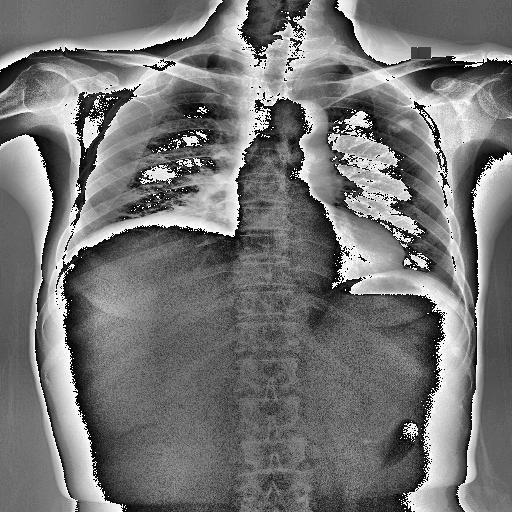0- Aortic enlargement: (287, 98, 328, 144)
13- Pulmonary fibrosis: (388, 119, 416, 134)
2- Calcification: (390, 118, 413, 132)
8- Nodule-Mass: (388, 119, 416, 134), (391, 118, 414, 134)
